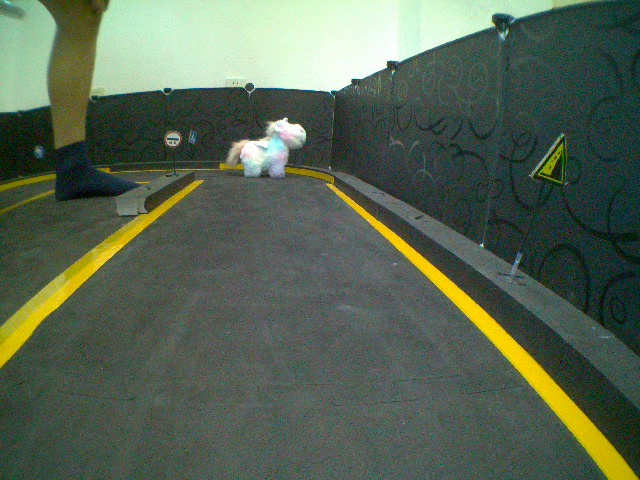unicorn: (224, 109, 307, 180)
